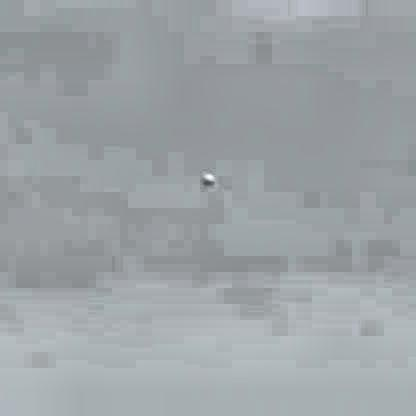golfball: (199, 168, 215, 184)
